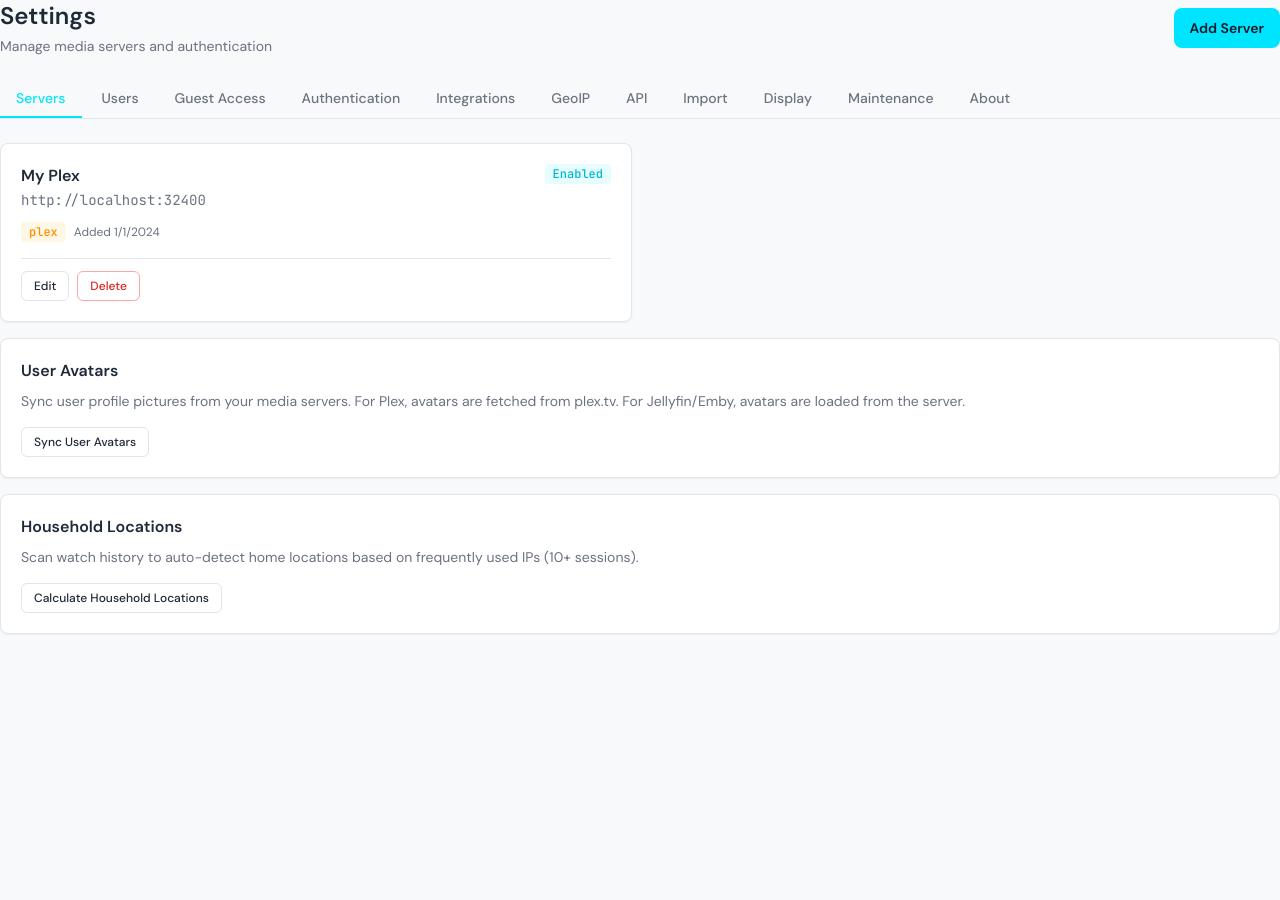
Test: Settings › opens edit form when clicking edit on a server
Expected: the heading "My Plex" is shown, [21,165,80,186]
Click the button "Edit".
click(45, 286)  # box [21,271,69,301]
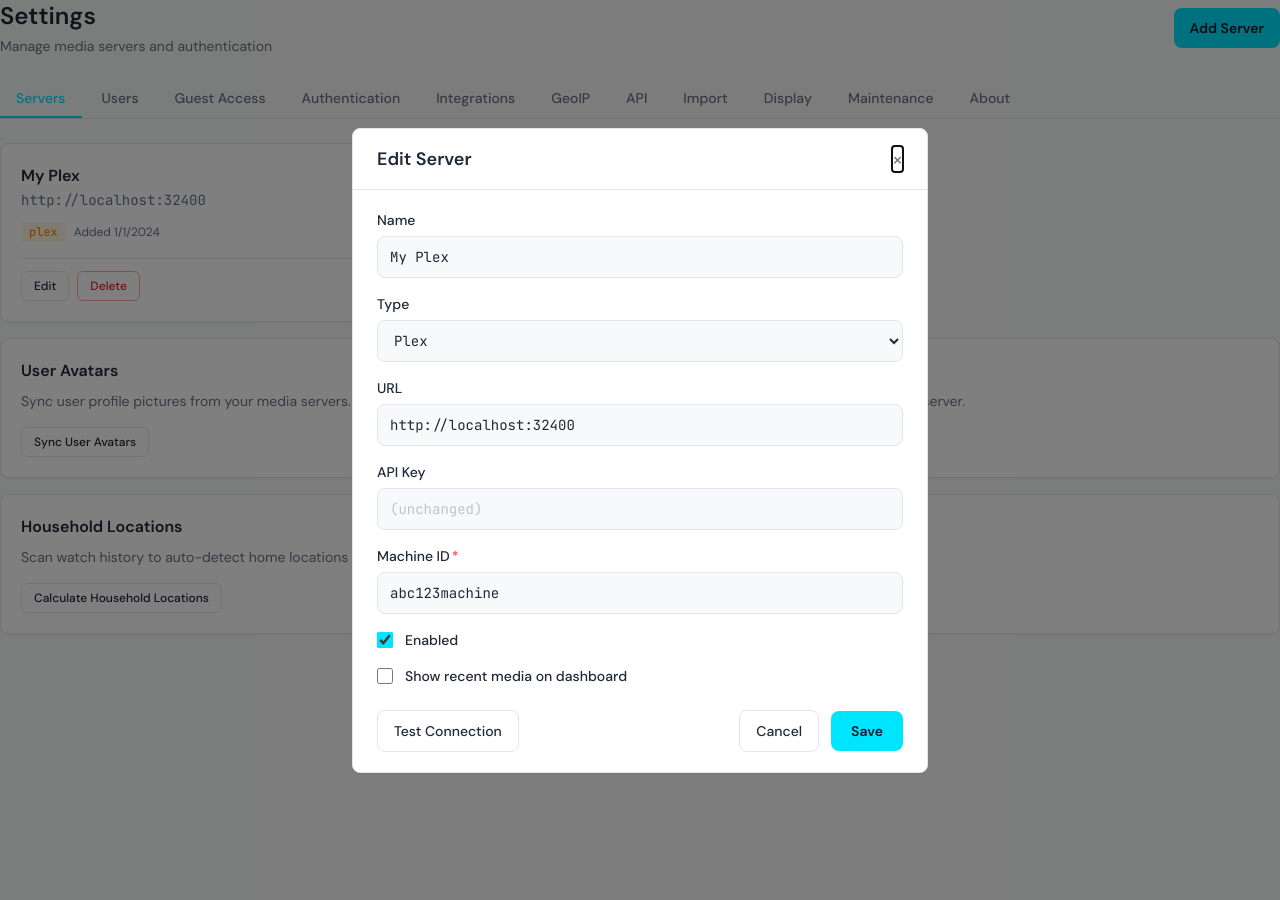
Now the heading "Edit Server" is shown, box [377,144,472,172]
